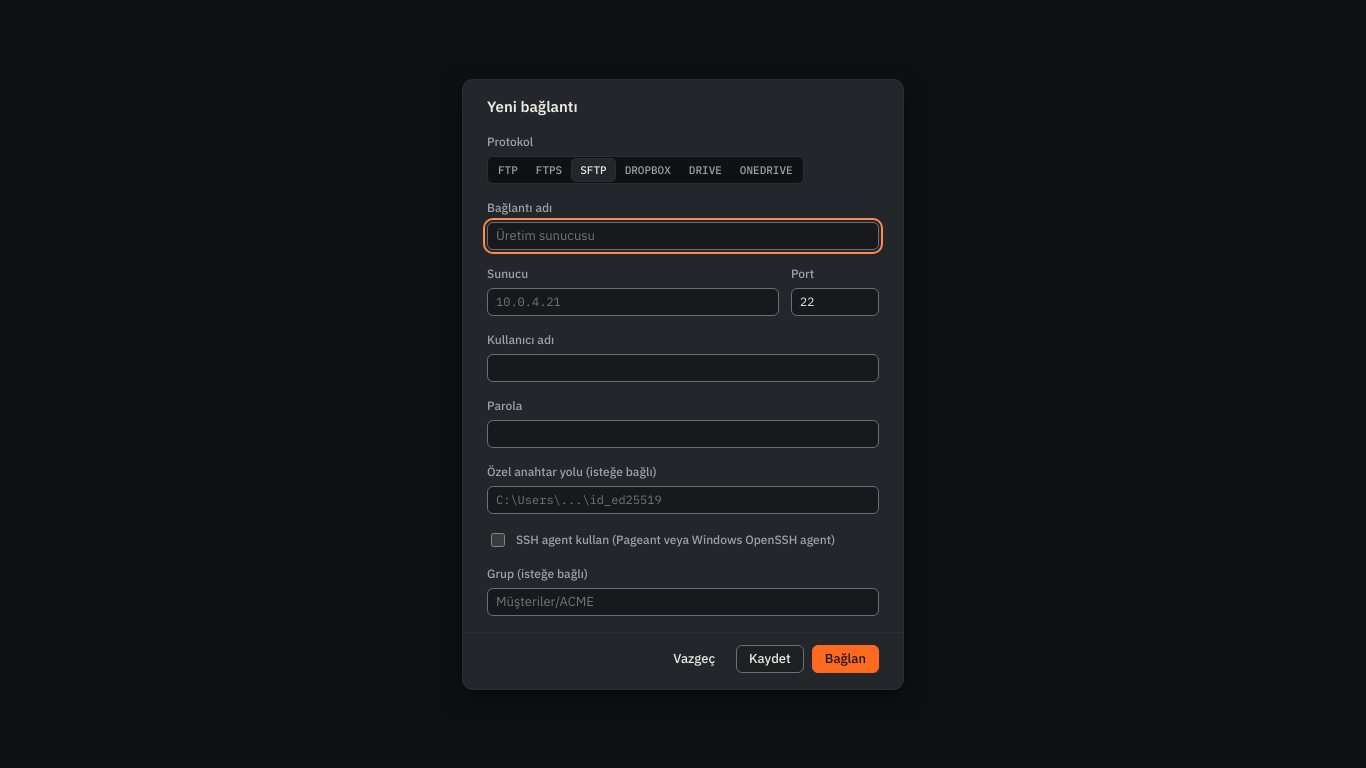
ConnectionModal › warns about plain FTP but not about FTPS
Click the radio button labelled "FTPS" at [549, 170], box [528, 158, 570, 180]
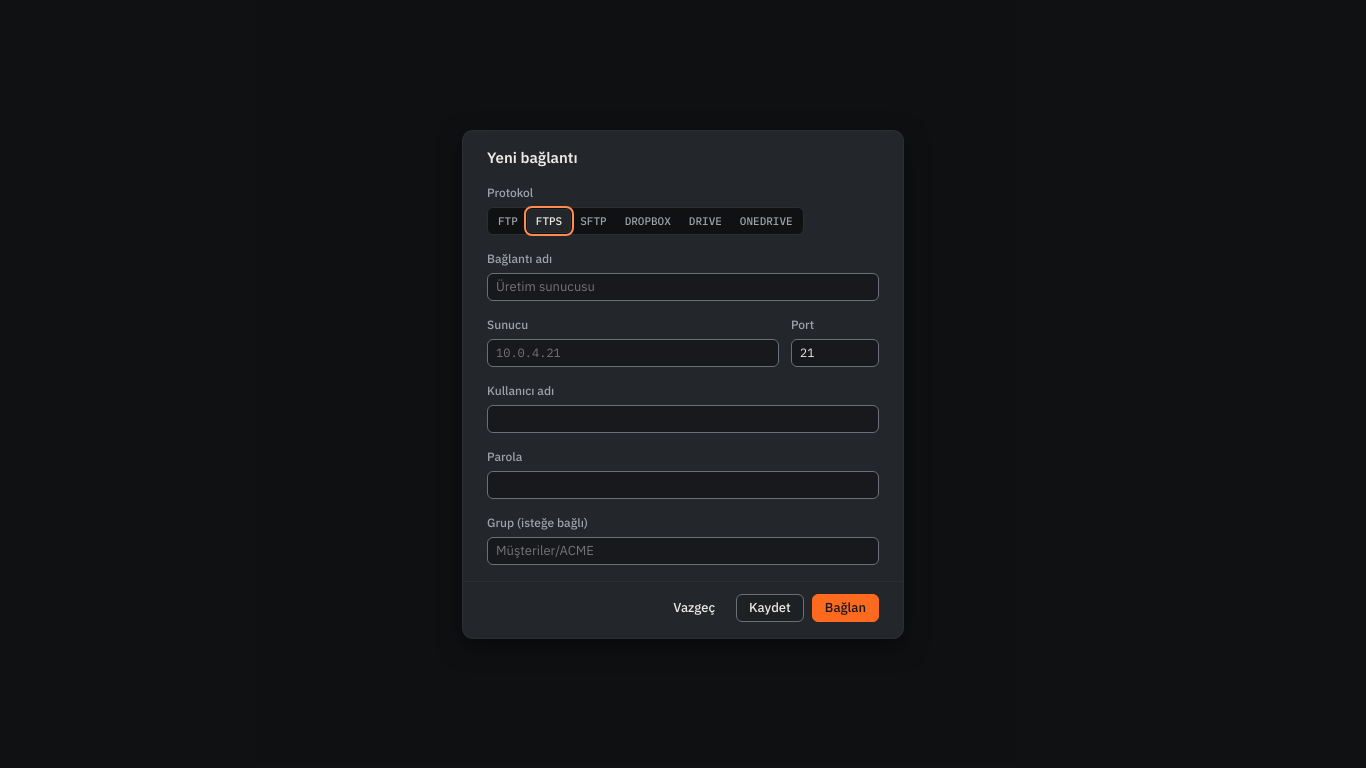
Expected: the text "Düz FTP şifrelenmez." is not shown
Result: the field labelled "Port" holds "21" at [791, 338, 879, 366]
Click the radio button labelled "FTP" at [508, 220], box [490, 210, 526, 232]
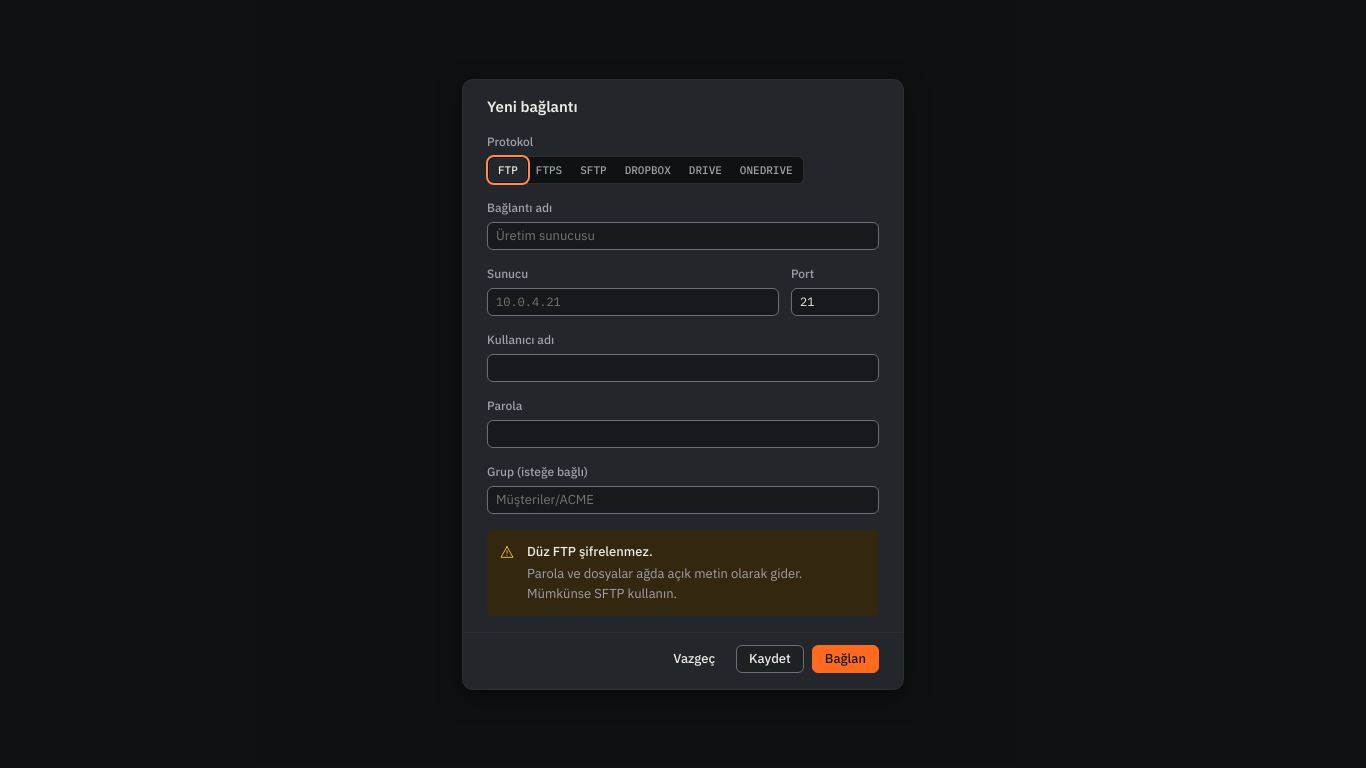
Result: the field labelled "Port" holds "21" at [791, 288, 879, 316]
Result: the text "Düz FTP şifrelenmez." is shown at [527, 542, 653, 560]
